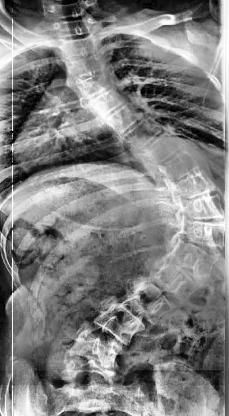Vertebrae: (58, 325, 126, 369), (144, 261, 209, 305), (119, 282, 183, 326), (92, 300, 148, 344), (59, 356, 125, 390), (164, 241, 222, 279), (177, 217, 229, 253), (177, 192, 229, 224), (119, 118, 169, 150), (78, 86, 130, 116), (171, 170, 223, 199), (136, 136, 186, 166), (99, 102, 147, 132), (68, 72, 119, 98), (156, 152, 200, 182), (51, 34, 101, 58), (42, 0, 96, 22), (62, 54, 110, 78), (50, 16, 97, 40)
